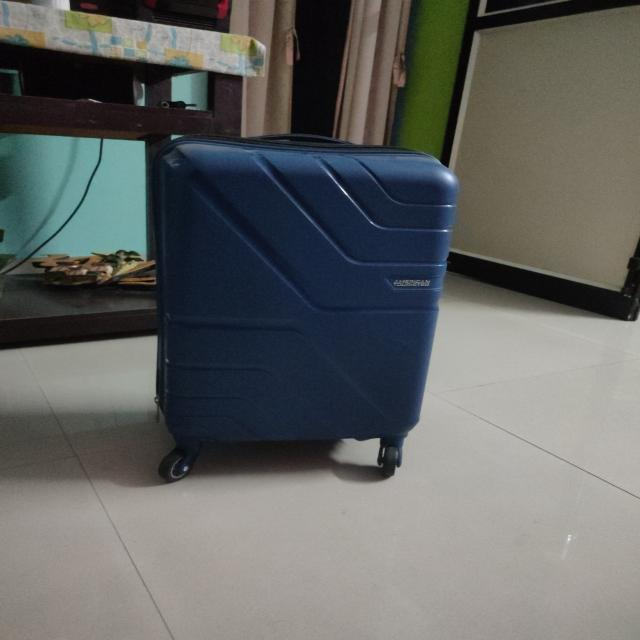suitcaserotation: (141, 129, 464, 487)
